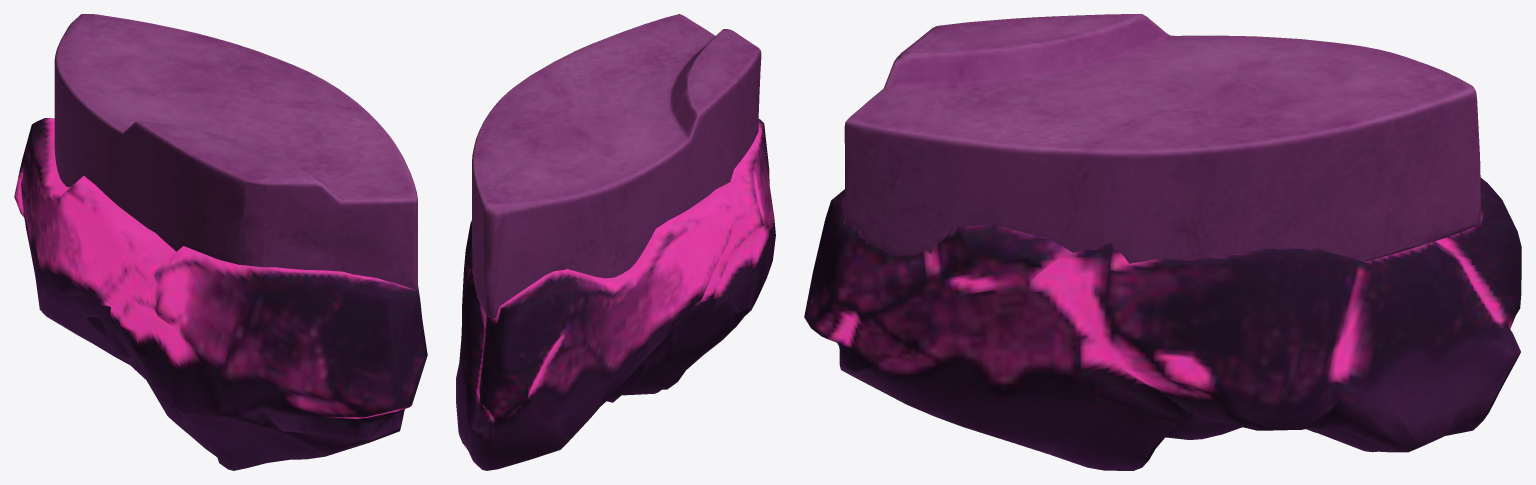
File: sky_rock_02a3_chaos.glb
The picture shows the model from 3 angles, left to right: view 1: azimuth 30°, elevation 25°; view 2: azimuth 150°, elevation 25°; view 3: azimuth 270°, elevation 25°; orthographic projection. The views are drawn at different scales.
Parts seen in each view (by area): view 1: rock_02a3; view 2: rock_02a3; view 3: rock_02a3.
Boxes of the visible parts, box(x1,y1,x2,y2) form: rock_02a3: box(14, 14, 427, 470); rock_02a3: box(456, 14, 775, 470); rock_02a3: box(804, 14, 1521, 470).
Bounding box in the file's own units: 13.93 × 19.24 × 31.51.
1 material, 1 textured.
